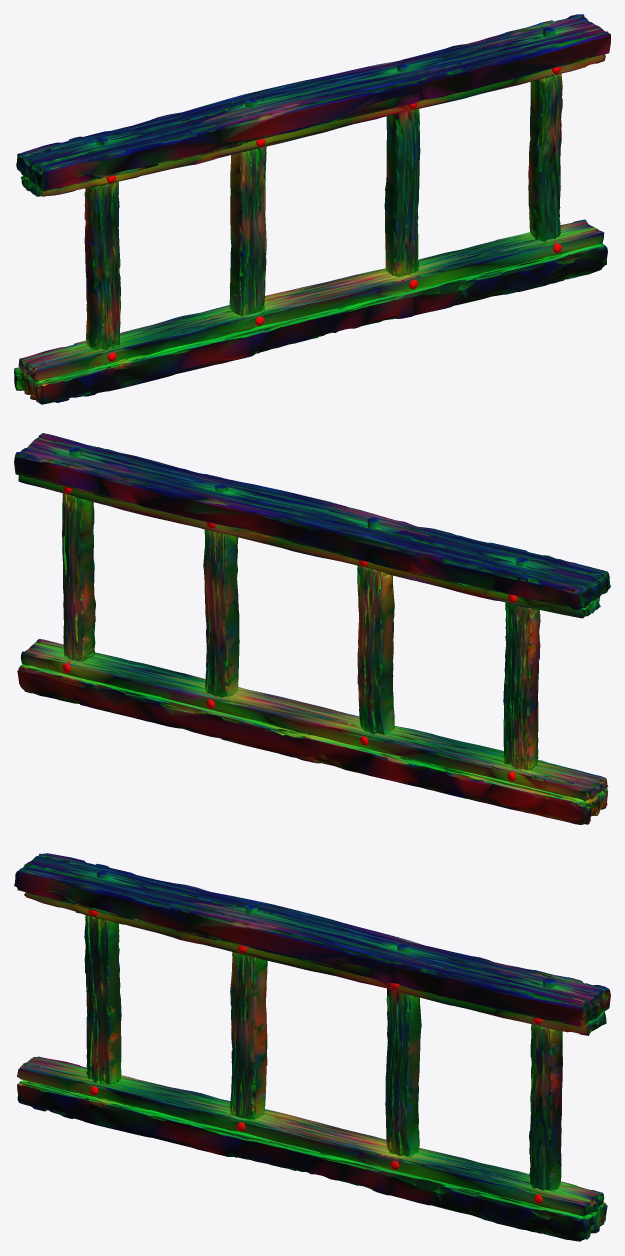
Rendered from SM_Wood_Railings.fbx.
3 renders of one model, top to bottom at view 1: azimuth 30°, elevation 25°; view 2: azimuth 150°, elevation 25°; view 3: azimuth 330°, elevation 25°, orthographic.
Parts seen in each view (by area): view 1: SM_Wood_Railings_LOD0; view 2: SM_Wood_Railings_LOD0; view 3: SM_Wood_Railings_LOD0.
Boxes of the visible parts, bbox=[...] form: SM_Wood_Railings_LOD0: bbox=[14, 14, 610, 404]; SM_Wood_Railings_LOD0: bbox=[14, 433, 610, 824]; SM_Wood_Railings_LOD0: bbox=[14, 853, 610, 1241].
Size of the model in its own units: 304 by 27.55 by 124.
